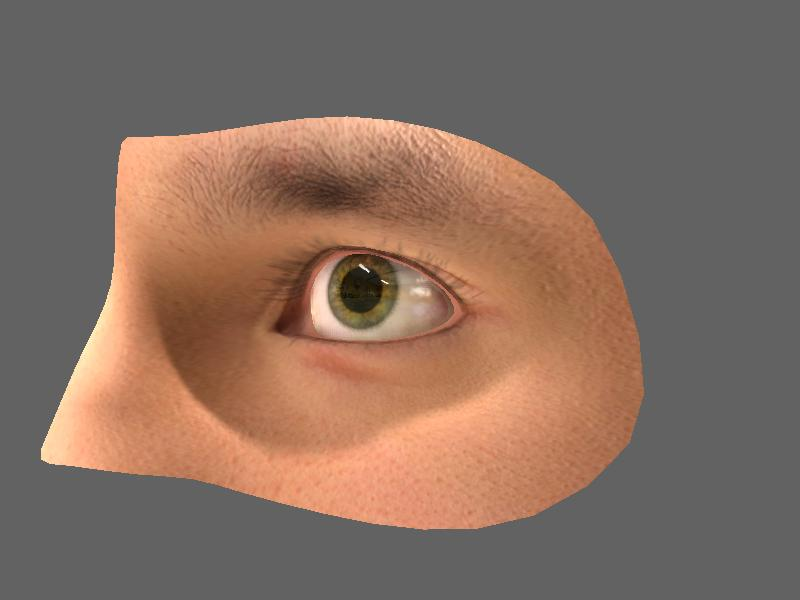iris: (329, 258, 405, 327)
